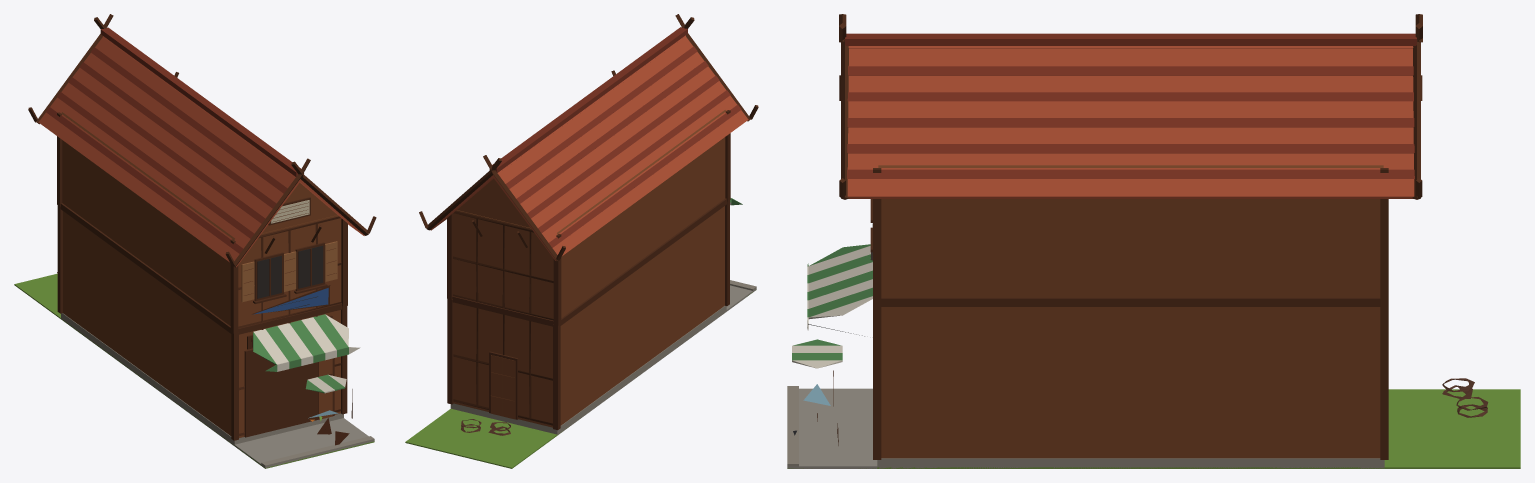
The model's file is bay1_mid.glb.
The picture shows the model from 3 angles, left to right: view 1: azimuth 30°, elevation 25°; view 2: azimuth 150°, elevation 25°; view 3: azimuth 270°, elevation 25°; orthographic projection. The views are drawn at different scales.
Visible parts, largest first — view 1: body, windows; view 2: body; view 3: body.
Boxes of the visible parts, x1,y1,x2,y2 form: body: (14,14,376,468); windows: (257,245,323,298); body: (405,14,758,468); body: (787,14,1520,468).
Size of the model in its own units: 5.52 by 9.86 by 15.9.
